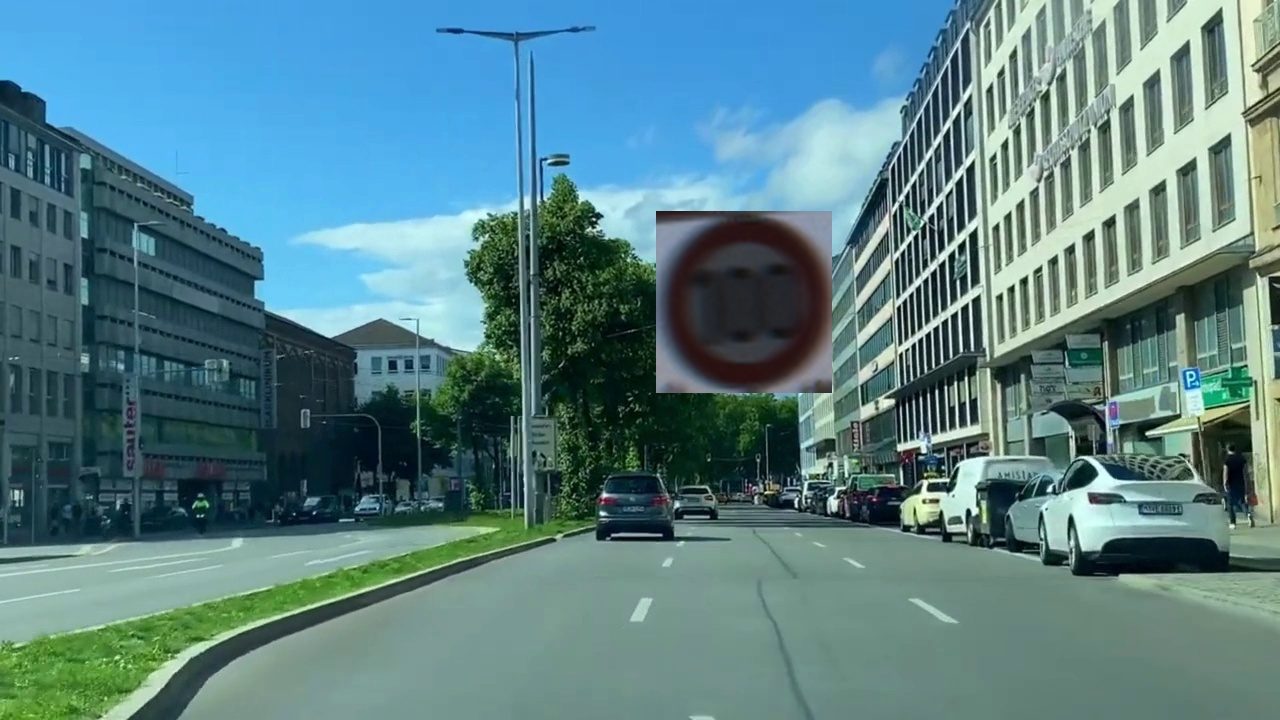Speed 100: (656, 211, 832, 393)
